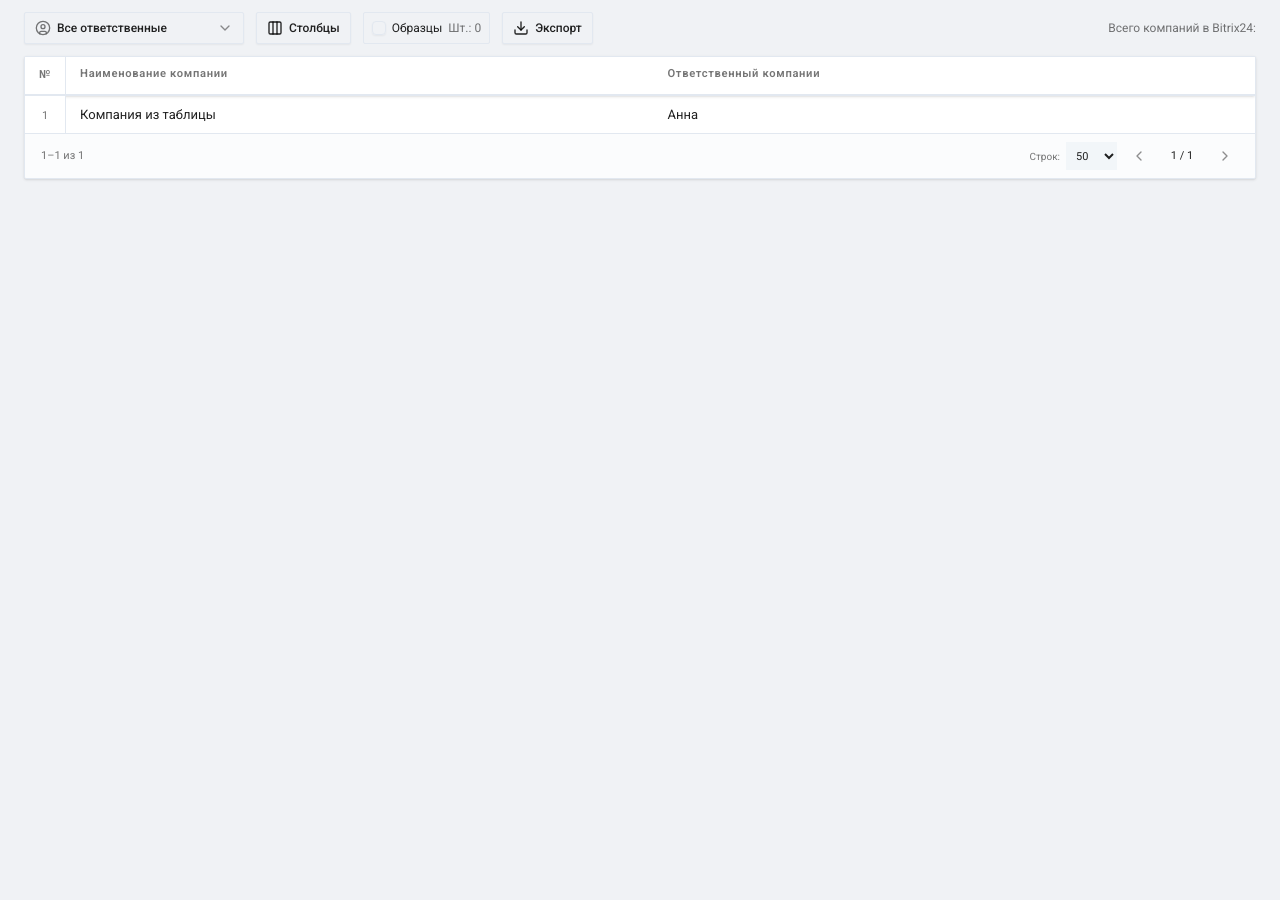
shows the marker section separate from the analytical section and never renders legacy sample card rows
The image size is (1280, 900).
Click the button "Компания из таблицы".
click(148, 115)  # box [80, 105, 216, 124]
(page scrolled)
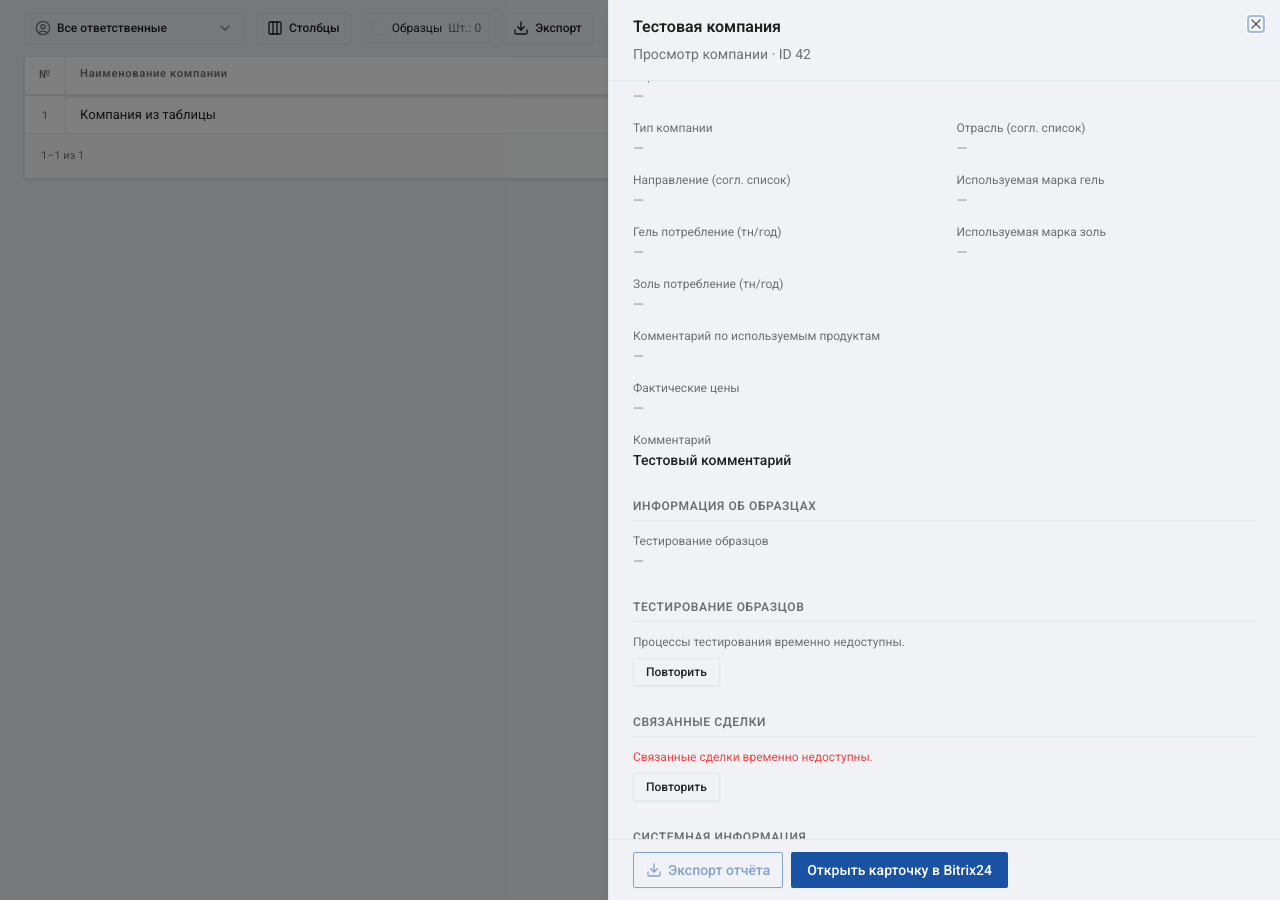
Expected: the heading "Тестовая компания" is shown, [633, 17, 781, 36]
Expected: the heading "Информация об образцах" is shown, [633, 498, 1256, 521]
Expected: the heading "Тестирование образцов" is shown, [633, 599, 1256, 622]
